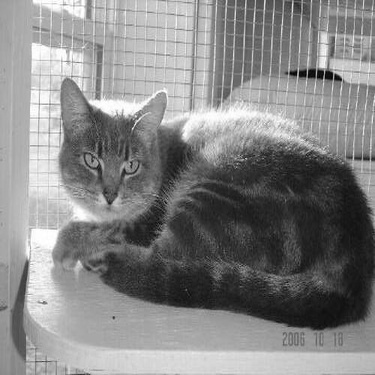cat: (37, 74, 374, 325)
